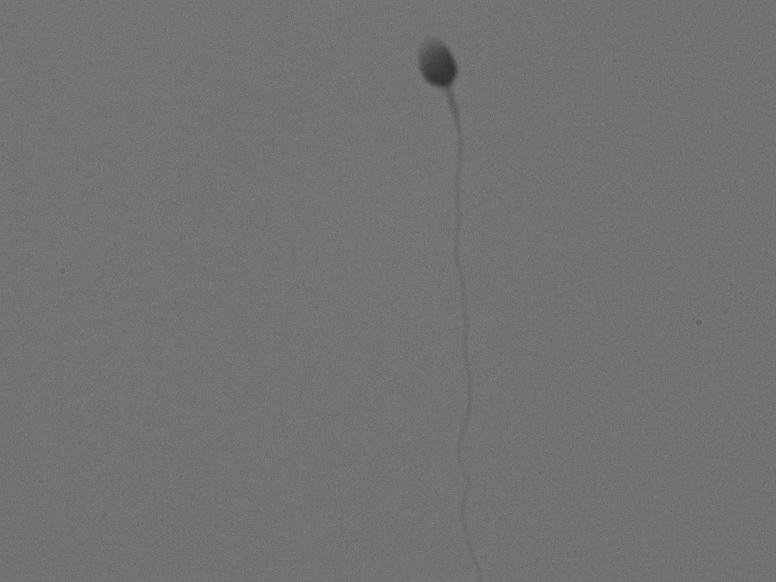Normal: (352, 11, 570, 556)
